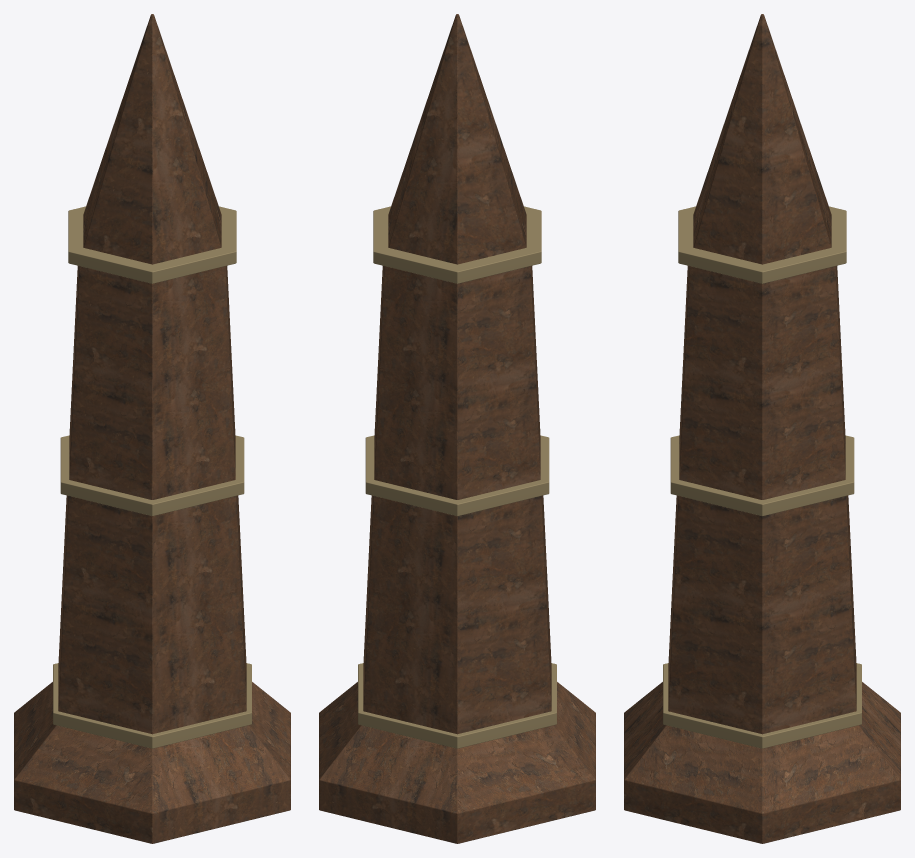
File: seal_obelisk.glb
3 views of the same model, side by side, from view 1: azimuth 30°, elevation 25°; view 2: azimuth 150°, elevation 25°; view 3: azimuth 270°, elevation 25° (orthographic).
Visible parts, largest first — view 1: Seal obelisk; view 2: Seal obelisk; view 3: Seal obelisk.
Boxes of the visible parts, x1,y1,x2,y2 form: Seal obelisk: [14, 14, 290, 843]; Seal obelisk: [319, 14, 595, 843]; Seal obelisk: [624, 14, 900, 843].
Bounding box in the file's own units: 3.8 × 10 × 3.29.
2 materials, 1 textured.
